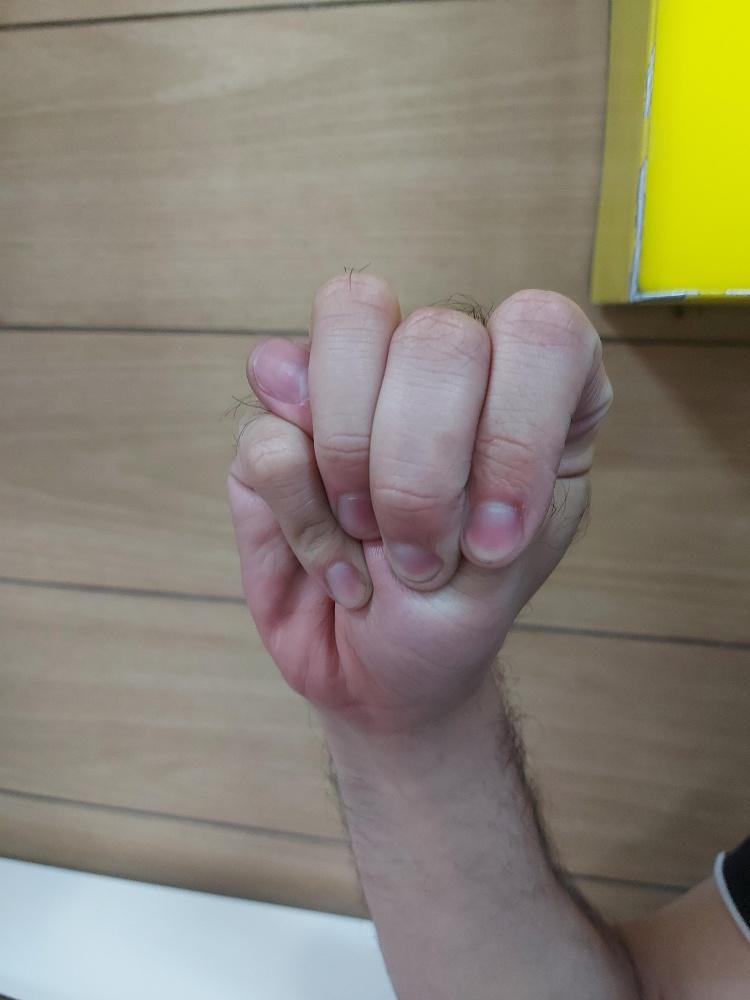m: (228, 267, 615, 730)
